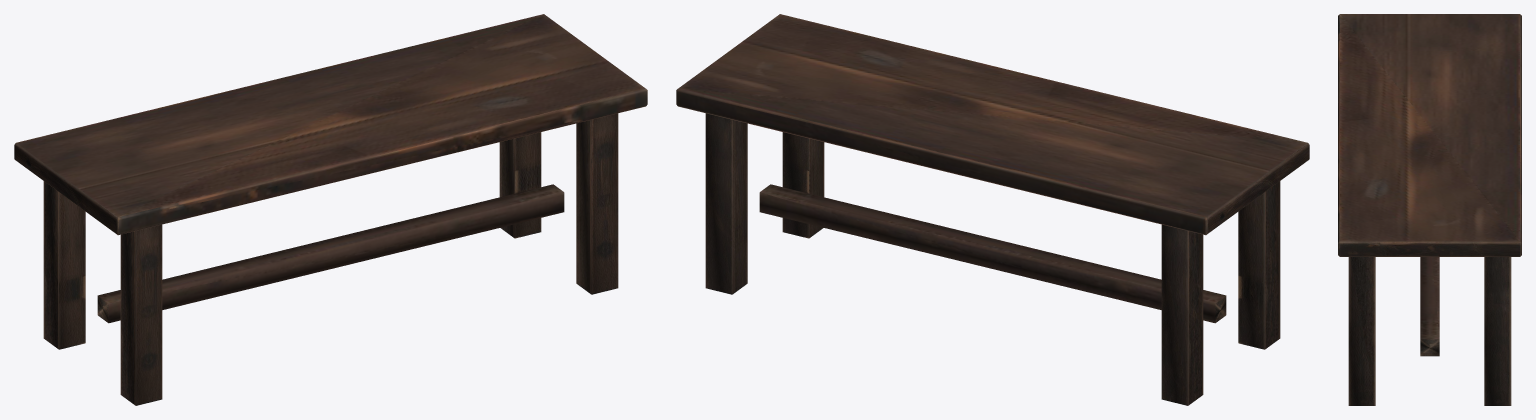
Rendered from table_long.glb.
3 views of the same model, side by side, from view 1: azimuth 30°, elevation 25°; view 2: azimuth 150°, elevation 25°; view 3: azimuth 270°, elevation 25° (orthographic). The views are drawn at different scales.
Visible parts, largest first — view 1: table_long; view 2: table_long; view 3: table_long.
Part boxes in pixels (x1,y1,x2,y2): table_long: (14, 14, 647, 405); table_long: (676, 14, 1309, 405); table_long: (1338, 14, 1521, 405).
Size of the model in its own units: 2.8 by 0.995 by 0.95.
Materials: 1 (1 with a texture image).
